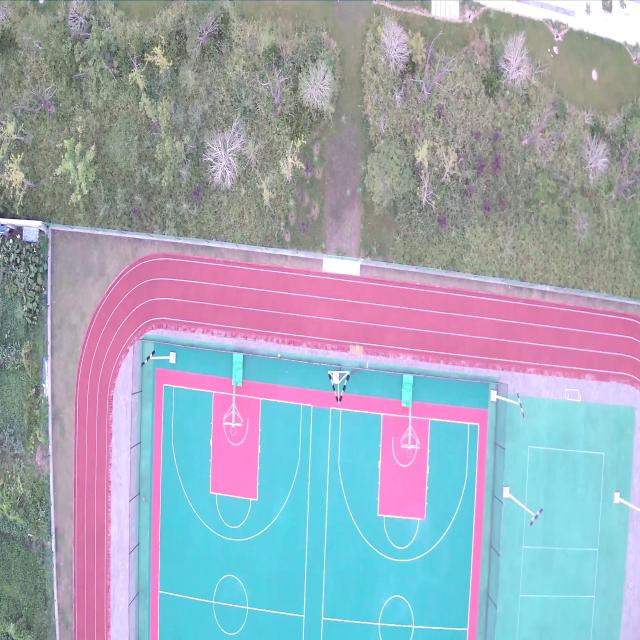UAV: (363, 359, 372, 373)
